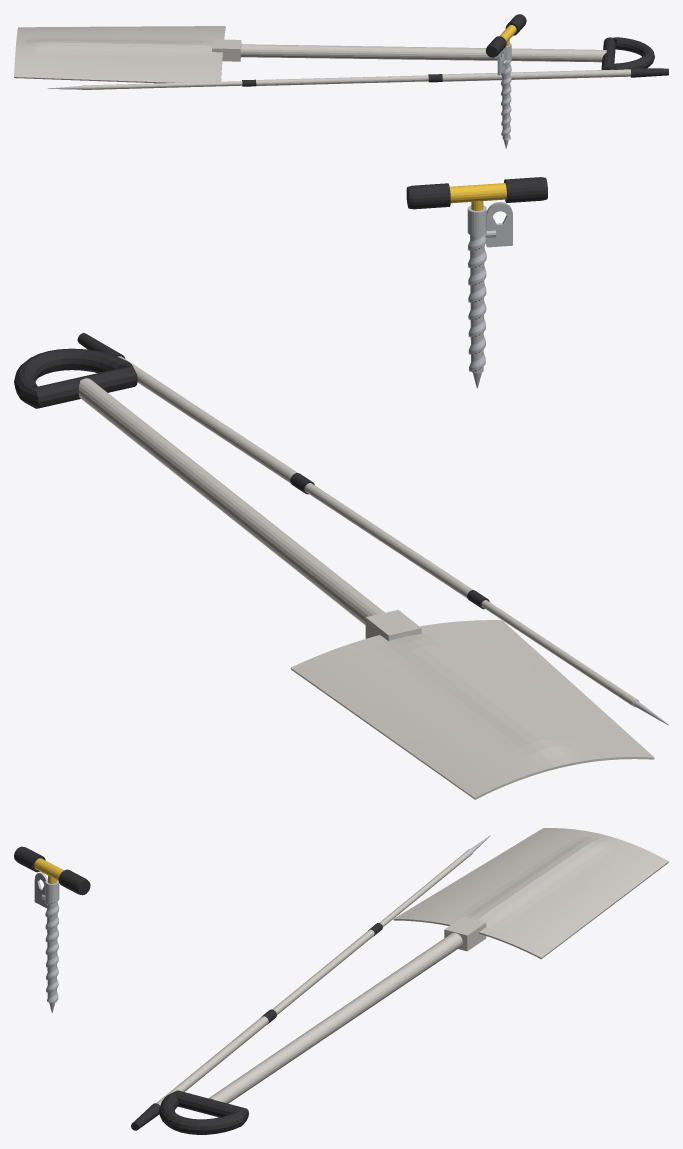
File: glacier_safety.fbx
The picture shows the model from 3 angles, top to bottom: view 1: azimuth 30°, elevation 25°; view 2: azimuth 150°, elevation 25°; view 3: azimuth 270°, elevation 25°; orthographic projection. The views are drawn at different scales.
Visible parts, largest first — view 1: GL_Shovel_Blade, GL_Shovel_Shaft, GL_Probe_Sections, GL_Shovel_Grip, GL_IceScrew_Body, GL_IceScrew_Handle; view 2: GL_Shovel_Blade, GL_Shovel_Shaft, GL_Probe_Sections, GL_Shovel_Grip, GL_IceScrew_Handle, GL_IceScrew_Body, GL_IceScrew_Hanger; view 3: GL_Shovel_Blade, GL_Shovel_Shaft, GL_Probe_Sections, GL_Shovel_Grip, GL_IceScrew_Body, GL_IceScrew_Handle.
Boxes of the visible parts, x1,y1,x2,y2 form: GL_Shovel_Blade: [14, 26, 241, 83]; GL_Shovel_Shaft: [240, 44, 606, 62]; GL_Probe_Sections: [82, 68, 668, 89]; GL_Shovel_Grip: [601, 37, 654, 69]; GL_IceScrew_Body: [500, 43, 511, 148]; GL_IceScrew_Handle: [486, 14, 526, 57]; GL_Shovel_Blade: [290, 610, 654, 799]; GL_Shovel_Shaft: [78, 378, 384, 625]; GL_Probe_Sections: [77, 333, 639, 707]; GL_Shovel_Grip: [14, 348, 137, 408]; GL_IceScrew_Handle: [406, 177, 547, 210]; GL_IceScrew_Body: [467, 205, 486, 388]; GL_IceScrew_Hanger: [484, 201, 512, 247]; GL_Shovel_Blade: [393, 828, 668, 959]; GL_Shovel_Shaft: [208, 932, 462, 1103]; GL_Probe_Sections: [131, 849, 473, 1130]; GL_Shovel_Grip: [159, 1090, 248, 1134]; GL_IceScrew_Body: [45, 880, 59, 1012]; GL_IceScrew_Handle: [14, 846, 90, 895].
Size of the model in its own units: 0.8366 by 0.19 by 0.7522.
